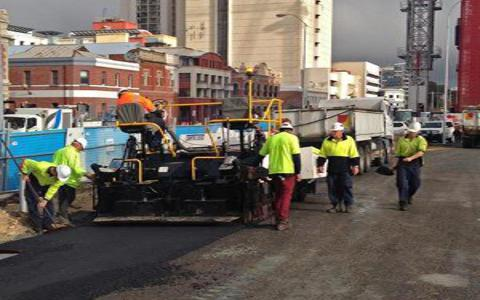Proper road: (36, 226, 162, 274)
